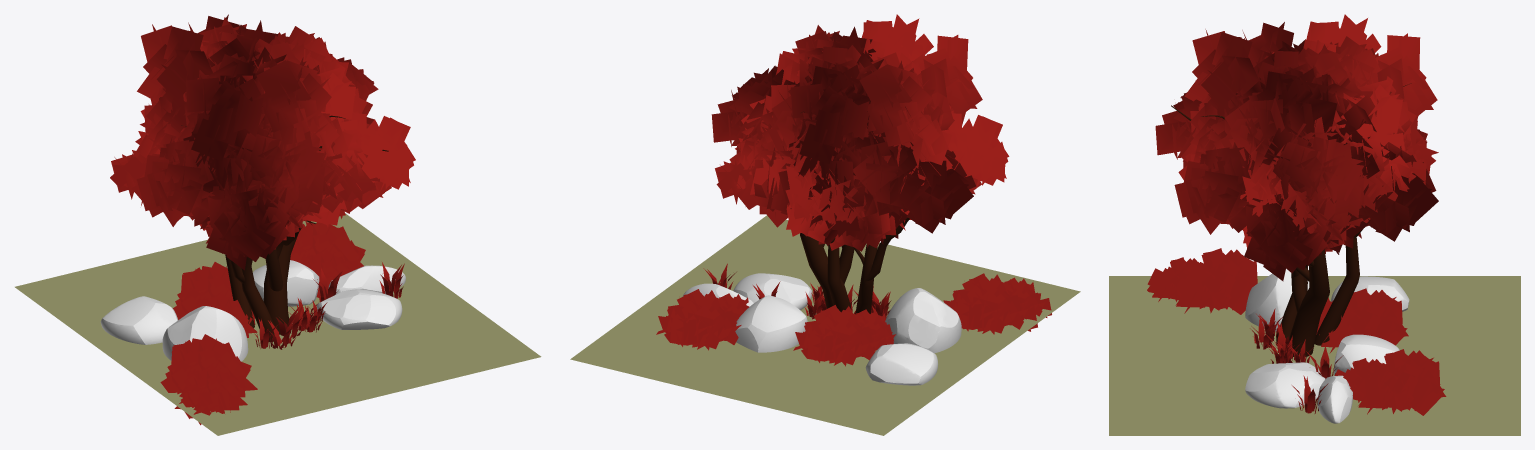
File: arbre3.fbx
3 views of the same model, side by side, from view 1: azimuth 30°, elevation 25°; view 2: azimuth 150°, elevation 25°; view 3: azimuth 270°, elevation 25° (orthographic). The views are drawn at different scales.
Visible parts, largest first — view 1: Plane027, Plane005, Cylinder014, Plane013, GeoSphere039, GeoSphere036, GeoSphere038, Plane014, Plane009, Plane011, GeoSphere037, GeoSphere040 (+3 smaller); view 2: Plane027, Plane005, Cylinder014, Plane011, GeoSphere038, Plane009, Plane013, GeoSphere037, GeoSphere036, GeoSphere039, Plane014, Plane012 (+1 smaller); view 3: Plane027, Plane005, Cylinder014, Plane009, Plane013, Plane011, GeoSphere039, GeoSphere038, GeoSphere037, GeoSphere040, Plane014, GeoSphere036 (+3 smaller).
Part boxes in pixels (x1,y1,x2,y2): Plane027: (110, 14, 415, 270); Plane005: (15, 213, 541, 435); Cylinder014: (181, 115, 388, 341); Plane013: (160, 334, 257, 418); GeoSphere039: (316, 289, 402, 329); GeoSphere036: (100, 296, 177, 344); GeoSphere038: (162, 306, 248, 361); Plane014: (181, 366, 247, 425); Plane009: (290, 222, 365, 270); Plane011: (173, 262, 255, 324); GeoSphere037: (253, 260, 319, 306); GeoSphere040: (328, 265, 405, 294); Plane027: (711, 14, 1009, 251); Plane005: (570, 215, 1080, 435); Cylinder014: (800, 111, 909, 314); Plane011: (793, 305, 886, 366); GeoSphere038: (885, 288, 961, 353); Plane009: (656, 289, 741, 350); Plane013: (943, 273, 1037, 334); GeoSphere037: (735, 295, 807, 352); GeoSphere036: (865, 343, 938, 385); GeoSphere039: (733, 273, 812, 310); Plane014: (1004, 277, 1051, 319); Plane012: (856, 309, 895, 350); Plane027: (1155, 14, 1438, 281); Plane005: (1109, 276, 1520, 435); Cylinder014: (1171, 83, 1411, 356); Plane009: (1353, 349, 1446, 415); Plane013: (1168, 248, 1257, 314); Plane011: (1321, 288, 1408, 353); GeoSphere039: (1245, 362, 1325, 408); GeoSphere038: (1245, 268, 1309, 331); GeoSphere037: (1334, 334, 1399, 375); GeoSphere040: (1317, 375, 1352, 423); Plane014: (1147, 257, 1199, 301); GeoSphere036: (1331, 276, 1409, 311).
Bounding box in the file's own units: 442 × 437 × 481.
